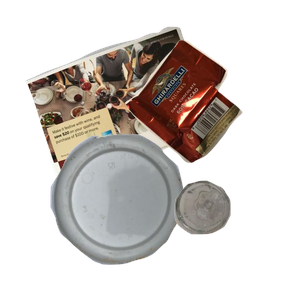glass: (172, 178, 300, 300)
paper: (23, 24, 232, 199)
plastic: (48, 132, 224, 300)
trash: (123, 37, 300, 192)
